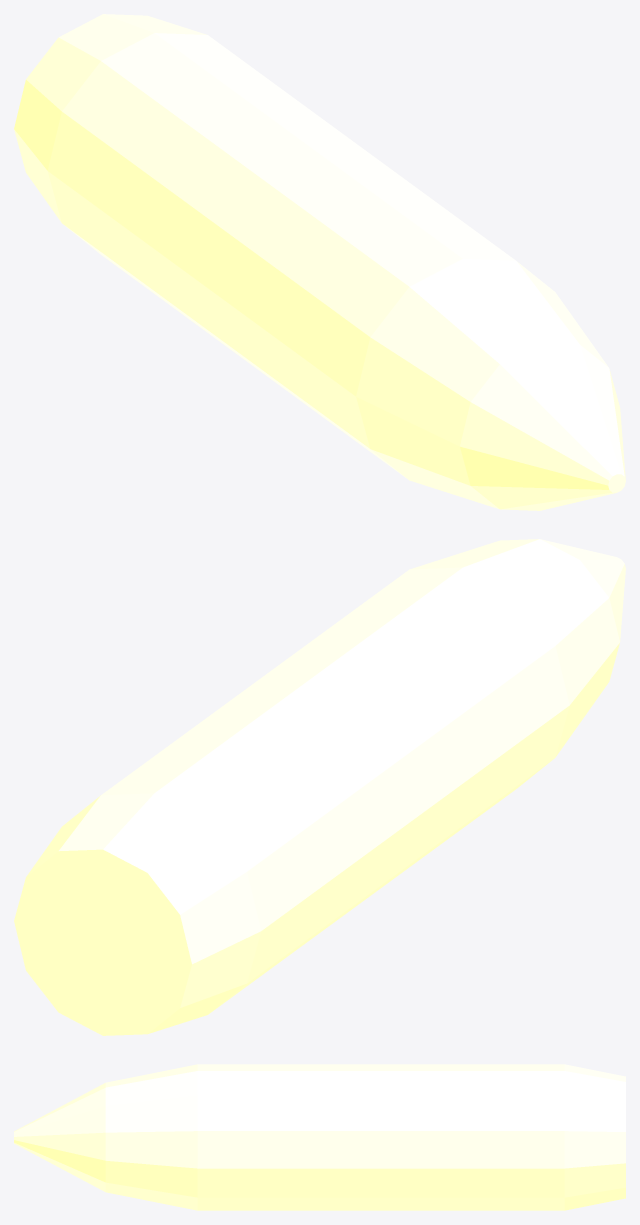
File: shell.glb
3 renders of one model, top to bottom at view 1: azimuth 30°, elevation 25°; view 2: azimuth 150°, elevation 25°; view 3: azimuth 270°, elevation 25°, orthographic. The views are drawn at different scales.
Visible parts, largest first — view 1: Shell; view 2: Shell; view 3: Shell.
Part boxes in pixels (<box>): Shell: <box>14,14,625,510</box>; Shell: <box>14,539,625,1035</box>; Shell: <box>14,1064,625,1210</box>.
Bounding box in the file's own units: 0.24 × 0.24 × 1.
